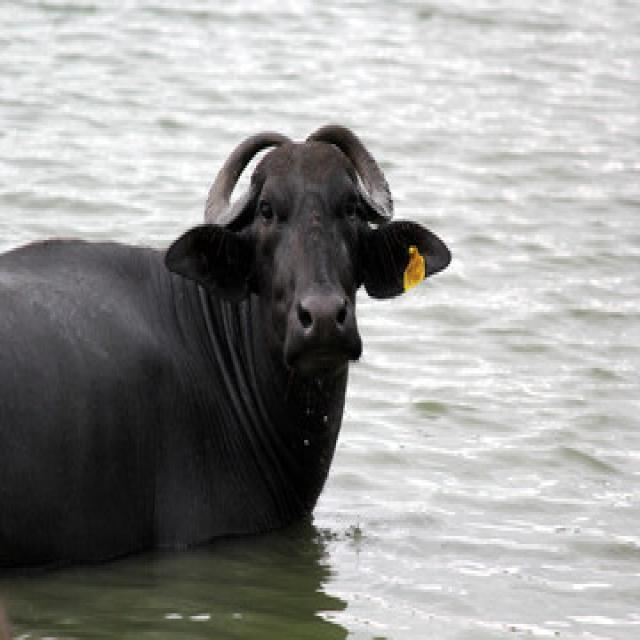Buffalo: (0, 123, 455, 589)
